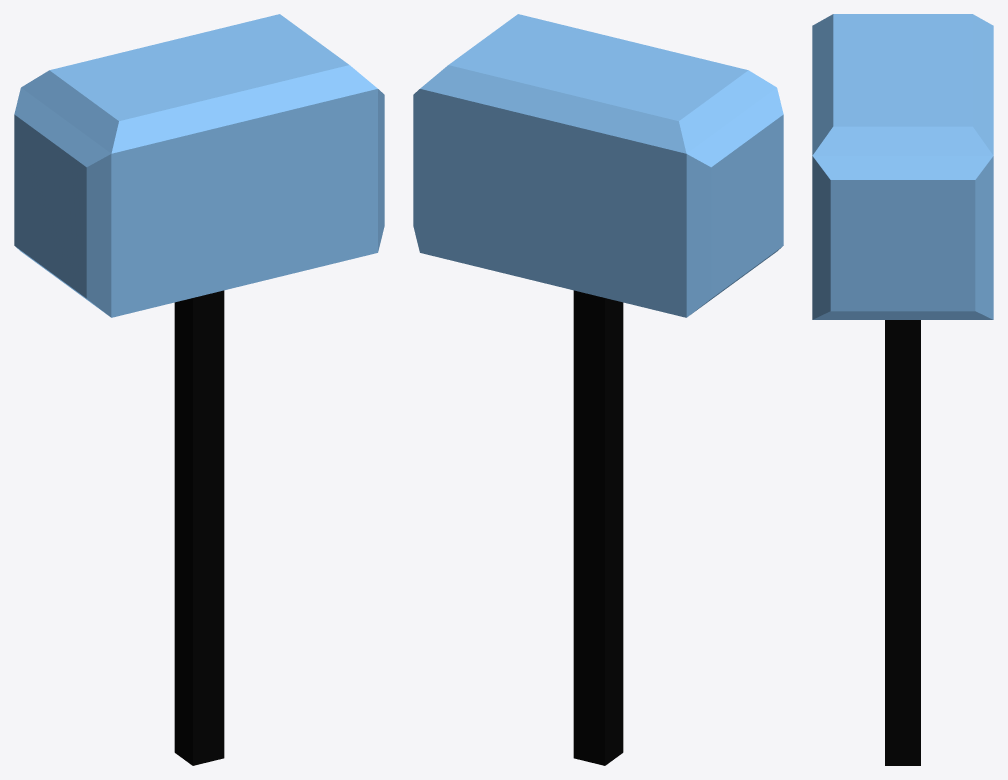
Rendered from nonblender_ hammer.fbx.
3 renders of one model, left to right at view 1: azimuth 30°, elevation 25°; view 2: azimuth 150°, elevation 25°; view 3: azimuth 270°, elevation 25°, orthographic.
Visible parts, largest first — view 1: Cube; view 2: Cube; view 3: Cube.
Boxes of the visible parts, <box> form: Cube: <box>14,14,384,765</box>; Cube: <box>413,14,783,765</box>; Cube: <box>812,14,993,765</box>.
Bounding box in the file's own units: 380 × 838 × 200.
